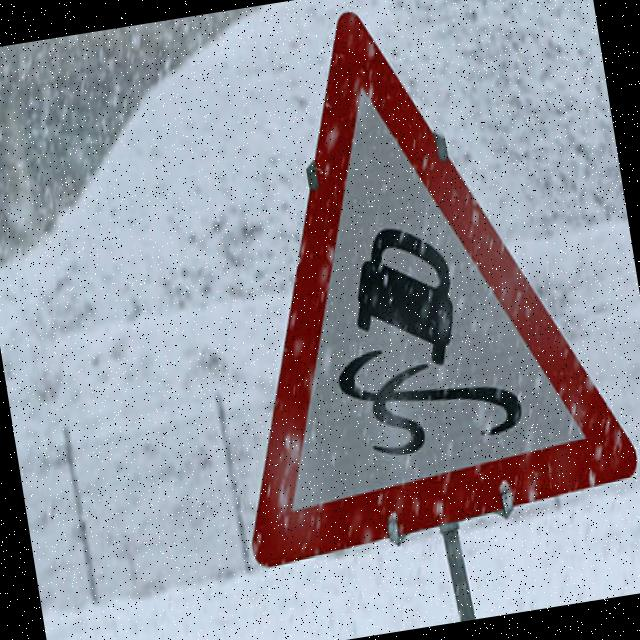road_slippery: (171, 0, 640, 566)
